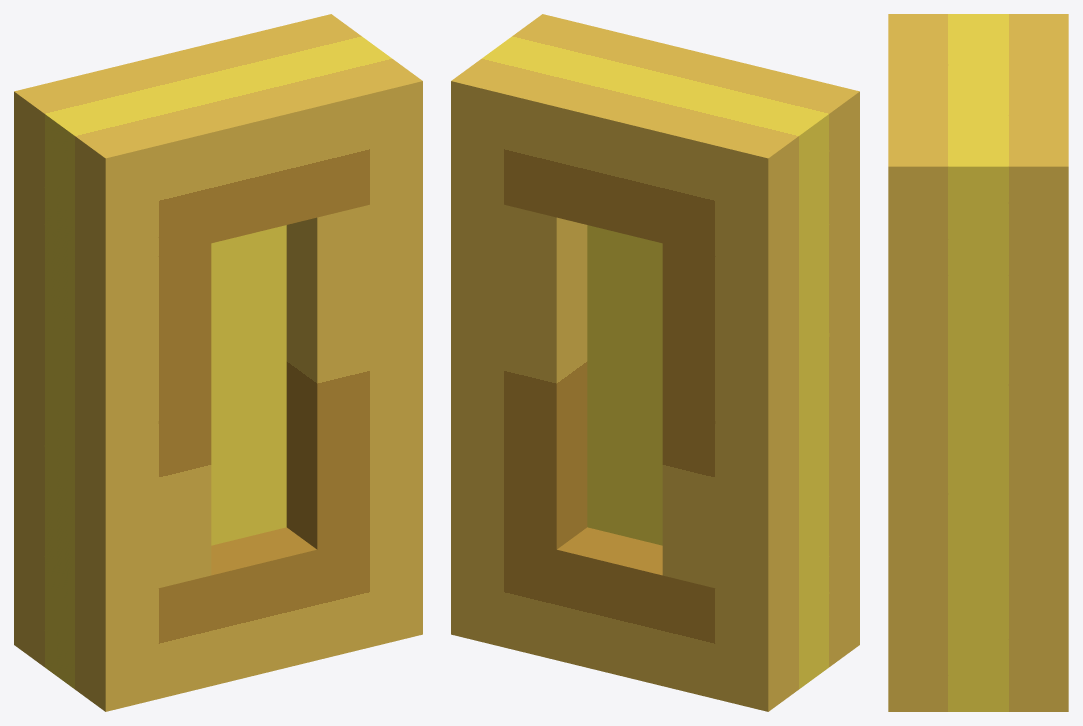
File: Gold.fbx
The picture shows the model from 3 angles, left to right: view 1: azimuth 30°, elevation 25°; view 2: azimuth 150°, elevation 25°; view 3: azimuth 270°, elevation 25°; orthographic projection.
Parts seen in each view (by area): view 1: Box; view 2: Box; view 3: Box.
Boxes of the visible parts, x1=… form: Box: x1=14, y1=14, x2=422, y2=711; Box: x1=451, y1=14, x2=859, y2=711; Box: x1=888, y1=14, x2=1068, y2=711.
Size of the model in its own units: 6 by 10 by 3.
1 material, 1 textured.
